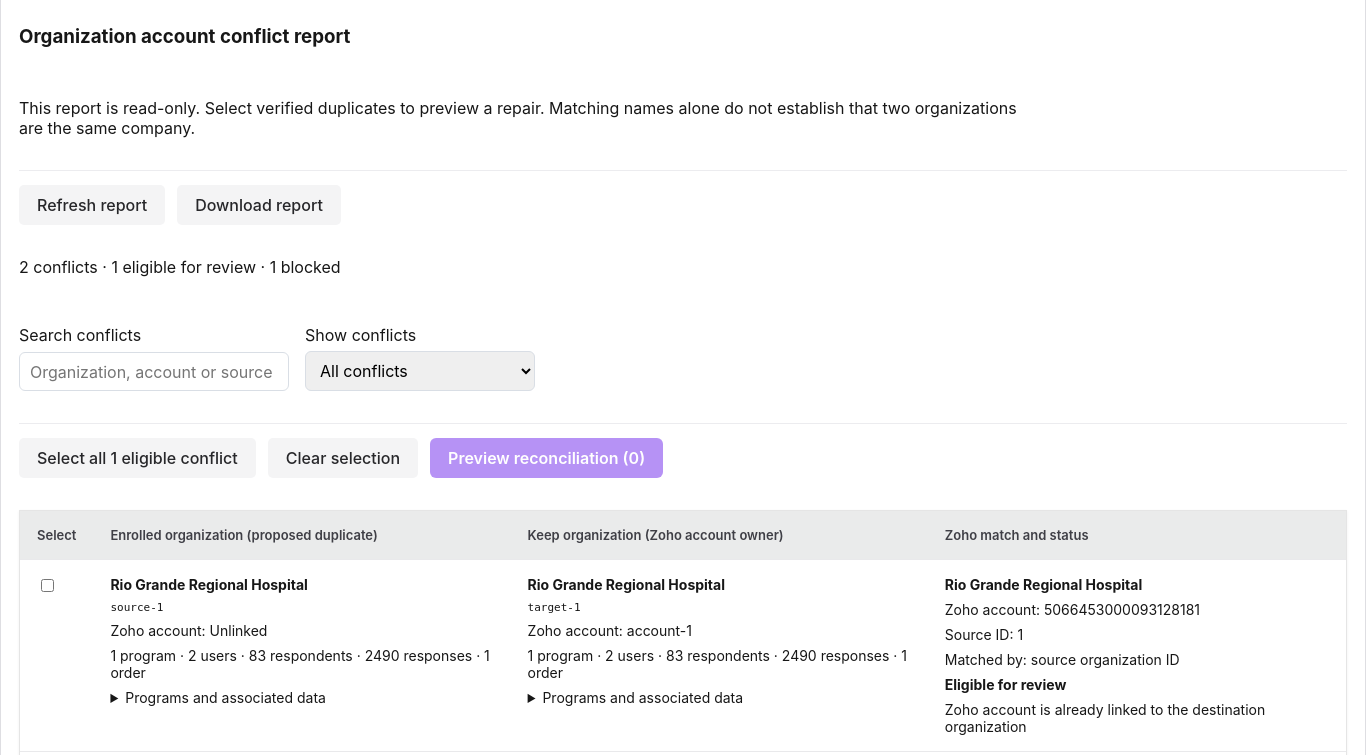
Scenario: organization reconciliation › previews selected repairs and requires verification before applying the server revision
Click the checkbox named "source-1" at (48, 586), box [41,579,54,592]
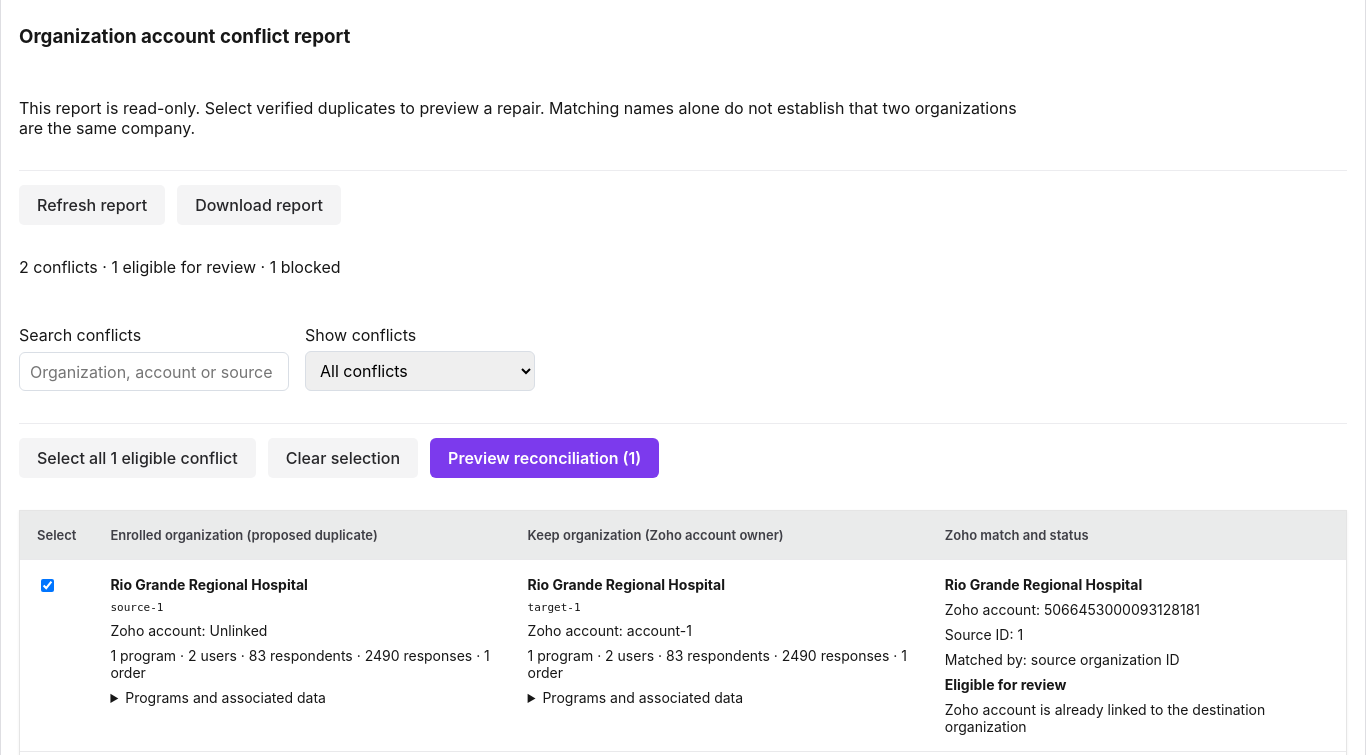
Click the button "Preview reconciliation (1)" at (545, 458), box [430,438,659,478]
(page scrolled)
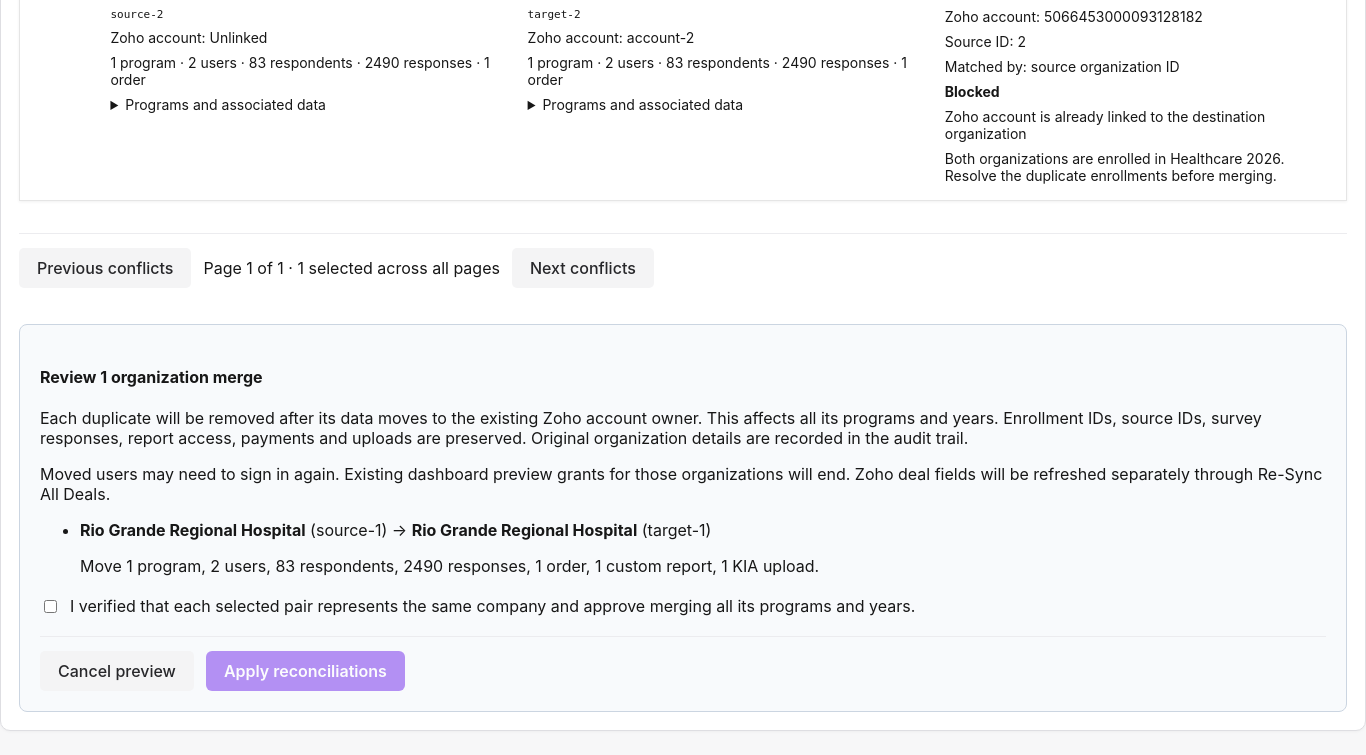
Result: the text "This affects all its programs and years" is shown at [40,408,1262,448]
Result: the button "Apply reconciliations" is disabled at [206,651,405,691]
Click the checkbox labelled "I verified" at (50, 606), box [44,600,57,613]
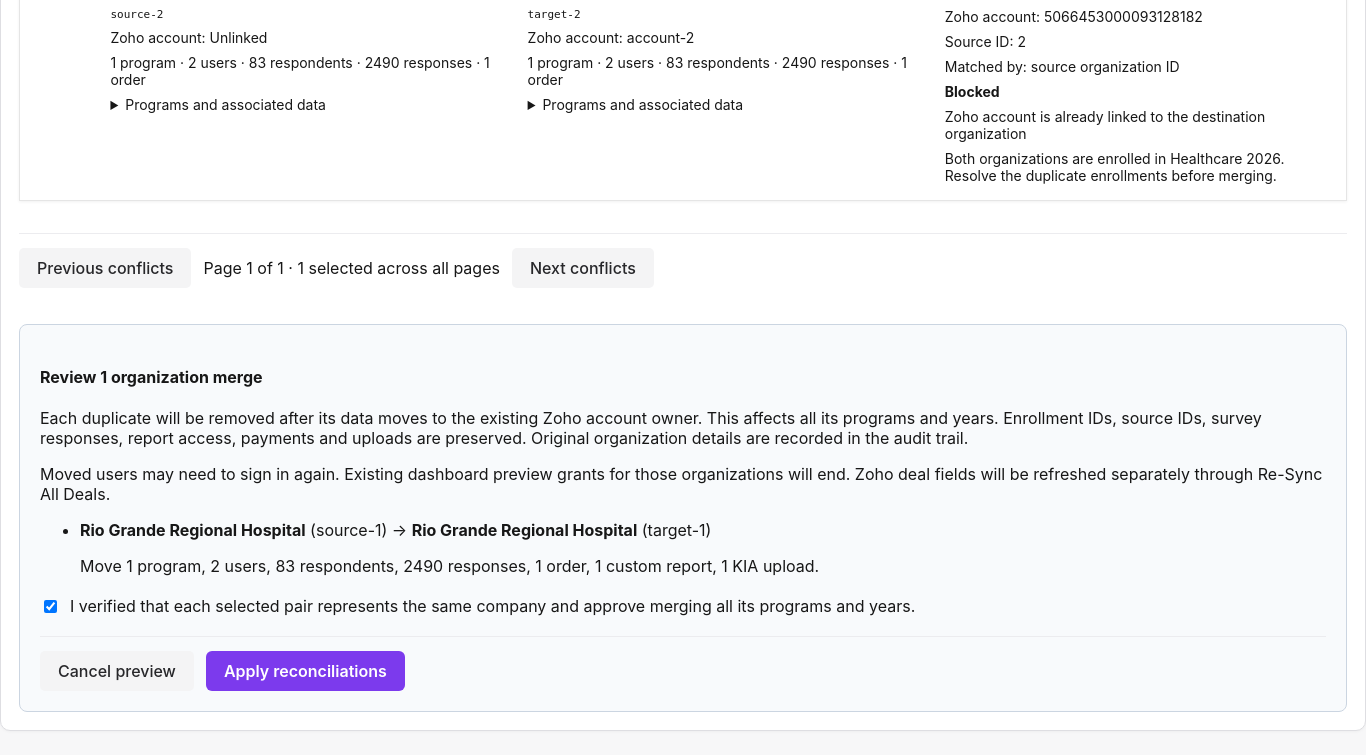
Click the button "Apply reconciliations" at (305, 671), box [206,651,405,691]
(page scrolled)
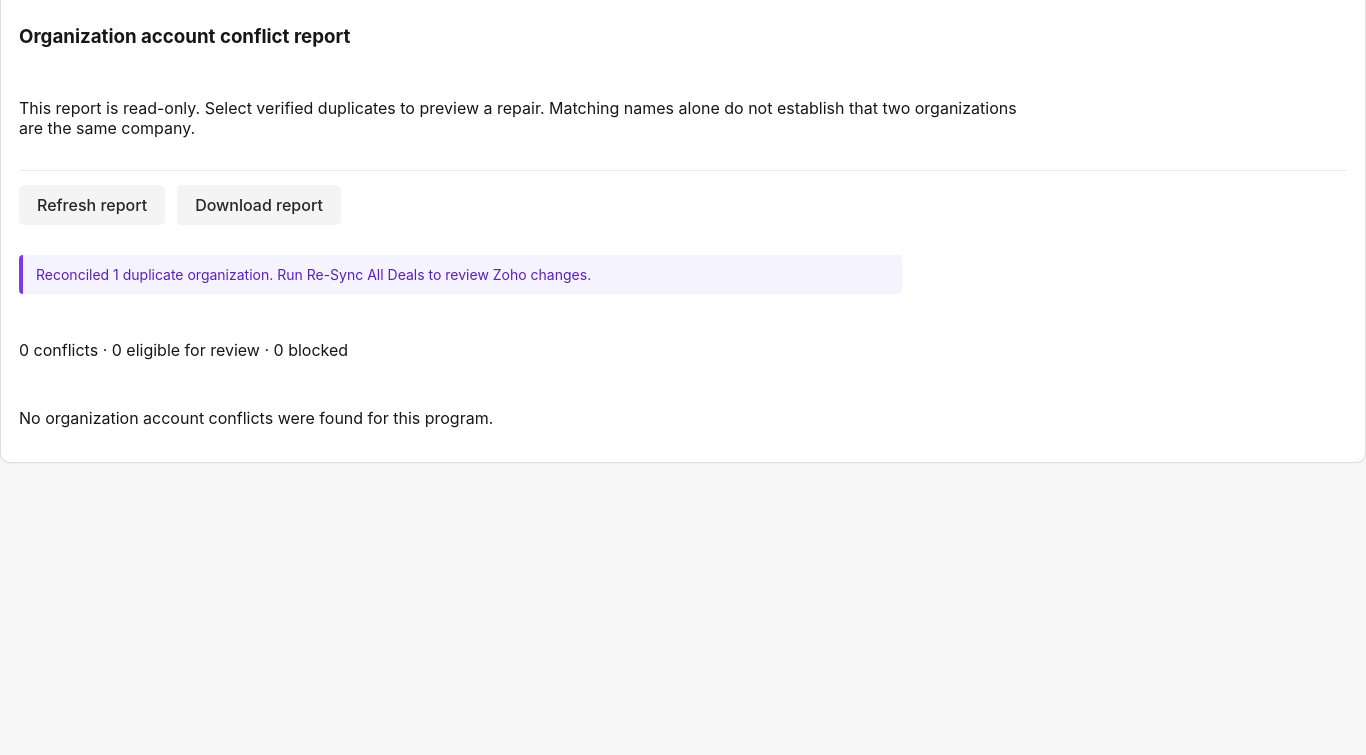
Result: the text "Reconciled 1 duplicate organization" is shown at [36,266,591,283]
Result: the text "No organization account conflicts" is shown at [19,408,493,428]
